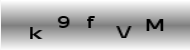9: (56, 16, 70, 28)
M: (144, 18, 163, 32)
V: (115, 24, 132, 38)
f: (85, 15, 95, 28)
k: (28, 25, 42, 39)
